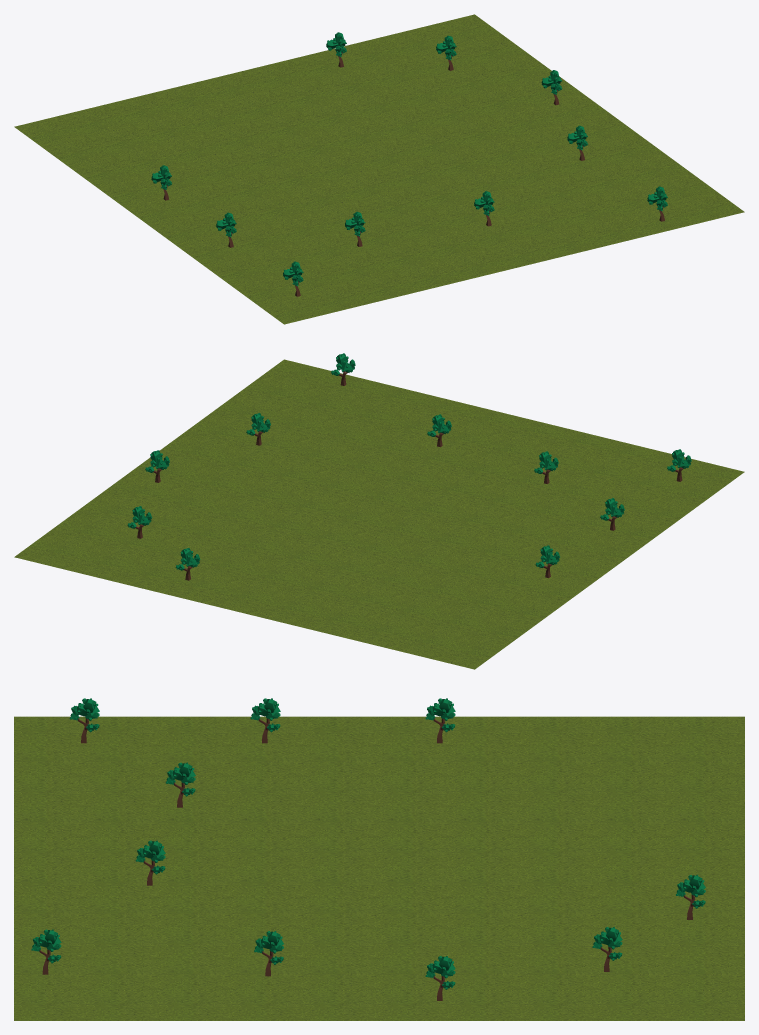
Rendered from PisoArboles.obj.
The picture shows the model from 3 angles, top to bottom: view 1: azimuth 30°, elevation 25°; view 2: azimuth 150°, elevation 25°; view 3: azimuth 270°, elevation 25°; orthographic projection. The views are drawn at different scales.
Visible parts, largest first — view 1: PisoArboles; view 2: PisoArboles; view 3: PisoArboles.
Boxes of the visible parts, x1=… form: PisoArboles: x1=14, y1=14, x2=744, y2=324; PisoArboles: x1=14, y1=353, x2=744, y2=669; PisoArboles: x1=14, y1=698, x2=744, y2=1020.
Size of the model in its own units: 272 by 18.34 by 276.
Materials: 21 (21 with a texture image).
